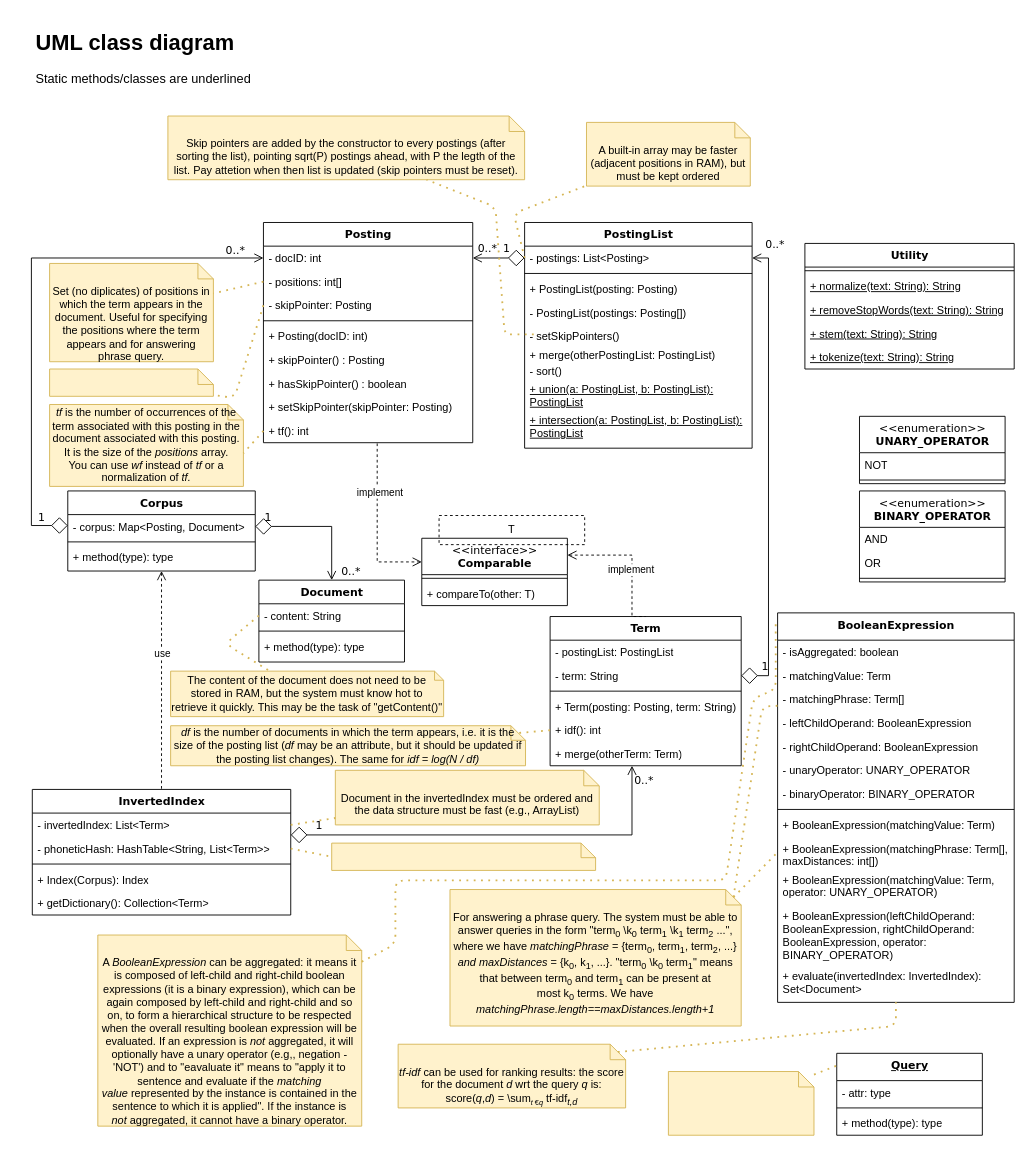
This 1030x1153 diagram has some shape labels left out. The centre of each missing label's shape, as x and y in pixels:
"For Soundex Algorithm" goes at point 463,856.
"Should use the class BooleanExpression , so ... is the class Query needed?" goes at point 740,1103.
"skipPointer is needed to implement a skiplist" goes at point 131,382.
